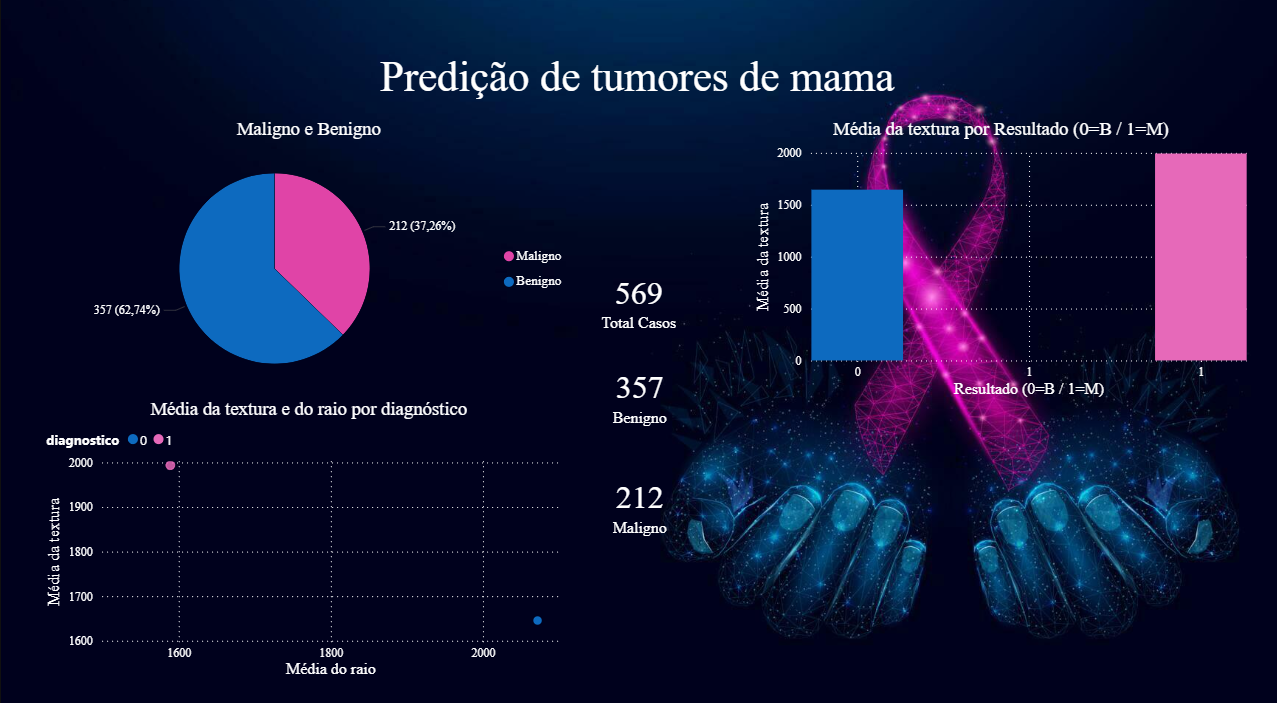

Layout of this report page (visuals, bound fields, positions):
{"tool":"powerbi","page":{"name":"Página 1","canvas":[1280,720],"ordinal":0},"visuals":[{"type":"cardVisual","fields":{"Data":["breast_cancer_limpo.Benigno"]},"box":[529.1,353.1,220.8,107],"z":0},{"type":"cardVisual","fields":{"Data":["breast_cancer_limpo.Maligno"]},"box":[529.1,460.1,220.8,111.9],"z":1000},{"type":"textbox","box":[375.4,54.5,528.1,59.3],"z":2000},{"type":"pieChart","fields":{"Y":["breast_cancer_limpo.Maligno","breast_cancer_limpo.Benigno"]},"box":[40.9,126.4,535,280.1],"z":3000},{"type":"cardVisual","fields":{"Data":["breast_cancer_limpo.Total Casos"]},"box":[529.1,263.6,220.8,96.3],"z":4000},{"type":"scatterChart","title":"Média da textura e do raio por diagnóstico","fields":{"X":["Avg(breast_cancer_limpo.radius_mean)"],"Y":["Avg(breast_cancer_limpo.texture_mean)"],"Series":["breast_cancer_limpo.diagnosis"]},"box":[40.9,406.6,535,284],"z":5000},{"type":"clusteredColumnChart","fields":{"Category":["breast_cancer_limpo.diagnosis"],"Y":["Avg(breast_cancer_limpo.texture_mean)"]},"box":[749.9,126.4,501.9,284],"z":6000}]}

Visuals, with their boxes in screenshot pixels (x1, y1, x2, y2), scaled from the page's 1280x720 canvas onto the 1277x703 screenshot:
cardVisual - breast_cancer_limpo.Benigno: (528,345,748,449)
cardVisual - breast_cancer_limpo.Maligno: (528,449,748,558)
textbox: (375,53,901,111)
pieChart - breast_cancer_limpo.Maligno x breast_cancer_limpo.Benigno: (41,123,575,397)
cardVisual - breast_cancer_limpo.Total Casos: (528,257,748,351)
"Média da textura e do raio por diagnóstico" scatterChart: (41,397,575,674)
clusteredColumnChart - breast_cancer_limpo.diagnosis x Avg(breast_cancer_limpo.texture_mean): (748,123,1249,401)
